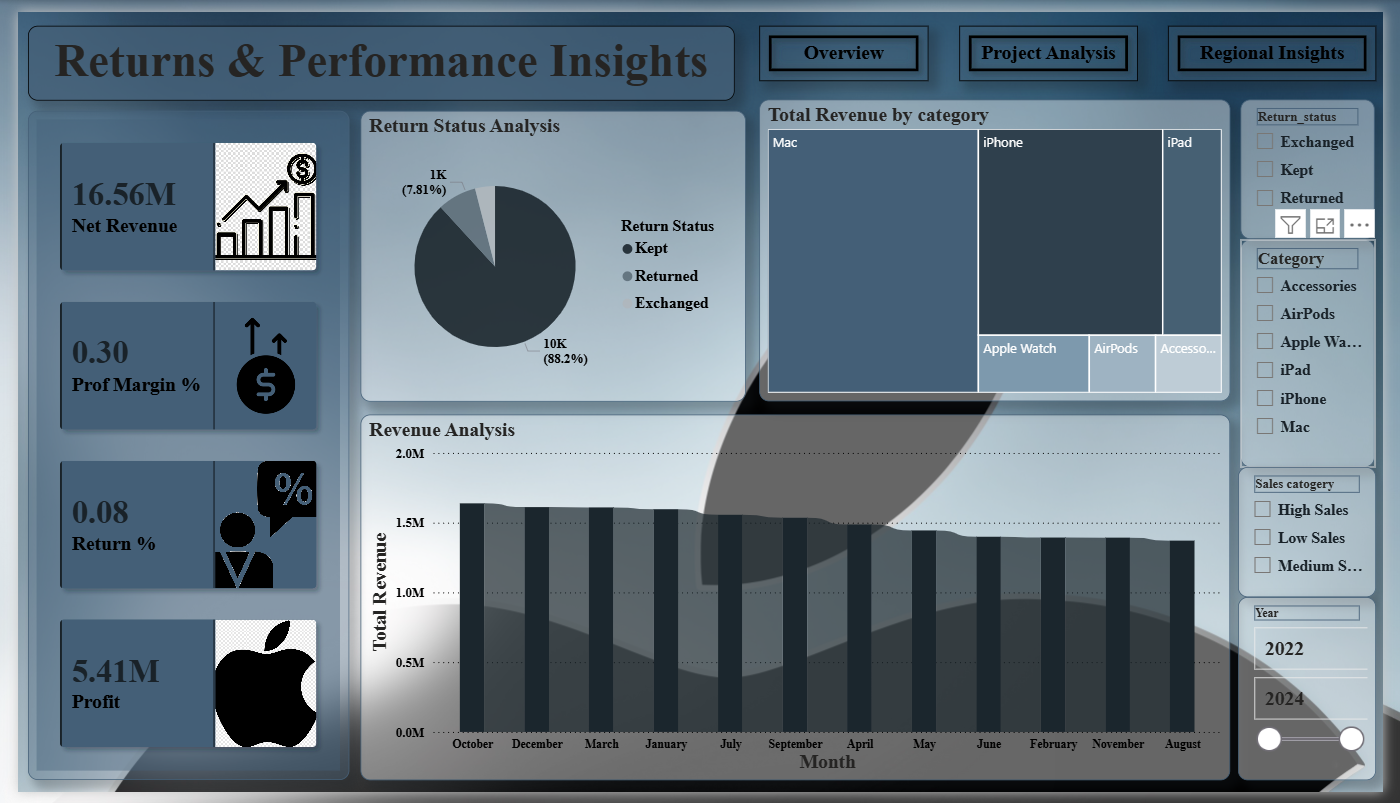

This screenshot's page, from the dashboard's own definition file:
{"tool":"powerbi","page":{"name":"Regional Insights","canvas":[1400,800],"ordinal":2},"visuals":[{"type":"textbox","box":[10.8,13.8,724.6,76.9],"z":0},{"type":"cardVisual","fields":{"Data":["apple_global_sales_dataset.Net Revenue","apple_global_sales_dataset.Profit Margin %","apple_global_sales_dataset.Return %","apple_global_sales_dataset.Profit"]},"box":[10.8,101.5,329.2,686.2],"z":1000},{"type":"pieChart","title":"Return Status Analysis","fields":{"Category":["apple_global_sales_dataset.return_status"],"Y":["apple_global_sales_dataset.Total Orders"]},"box":[350.8,101.5,395.4,298.5],"z":2000},{"type":"ribbonChart","title":"Revenue Analysis","fields":{"Category":["apple_global_sales_dataset.month"],"Y":["apple_global_sales_dataset.Total Revenue"]},"box":[350.8,412.3,892.3,375.4],"z":3000},{"type":"treemap","fields":{"Details":["apple_global_sales_dataset.category"],"Values":["apple_global_sales_dataset.Total Revenue"]},"box":[759.7,90.3,483.3,309.7],"z":4000},{"type":"slicer","fields":{"Values":["apple_global_sales_dataset.return_status"]},"box":[1254.2,90.3,137.5,143.1],"z":5000},{"type":"slicer","fields":{"Values":["apple_global_sales_dataset.category"]},"box":[1254.2,233.3,137.5,233.3],"z":6000},{"type":"slicer","fields":{"Values":["apple_global_sales_dataset.Sales catogery"]},"box":[1250.8,466.2,141.5,133.8],"z":7000},{"type":"slicer","fields":{"Values":["apple_global_sales_dataset.year"]},"box":[1250.8,600,141.5,187.7],"z":8000},{"type":"actionButton","box":[759.7,13.9,173.6,56.9],"z":9000},{"type":"actionButton","box":[965.3,13.9,183.3,56.9],"z":10000},{"type":"actionButton","box":[1179.2,13.9,213.9,56.9],"z":11000}]}

Visuals, with their boxes in screenshot pixels (x1, y1, x2, y2), scaled from the page's 1400x800 canvas onto the 1400x803 screenshot:
textbox: x1=11 y1=14 x2=735 y2=91
cardVisual - apple_global_sales_dataset.Net Revenue x apple_global_sales_dataset.Profit Margin %: x1=11 y1=102 x2=340 y2=791
"Return Status Analysis" pieChart: x1=351 y1=102 x2=746 y2=401
"Revenue Analysis" ribbonChart: x1=351 y1=414 x2=1243 y2=791
treemap - apple_global_sales_dataset.category x apple_global_sales_dataset.Total Revenue: x1=760 y1=91 x2=1243 y2=401
slicer - apple_global_sales_dataset.return_status: x1=1254 y1=91 x2=1392 y2=234
slicer - apple_global_sales_dataset.category: x1=1254 y1=234 x2=1392 y2=468
slicer - apple_global_sales_dataset.Sales catogery: x1=1251 y1=468 x2=1392 y2=602
slicer - apple_global_sales_dataset.year: x1=1251 y1=602 x2=1392 y2=791
actionButton: x1=760 y1=14 x2=933 y2=71
actionButton: x1=965 y1=14 x2=1149 y2=71
actionButton: x1=1179 y1=14 x2=1393 y2=71
